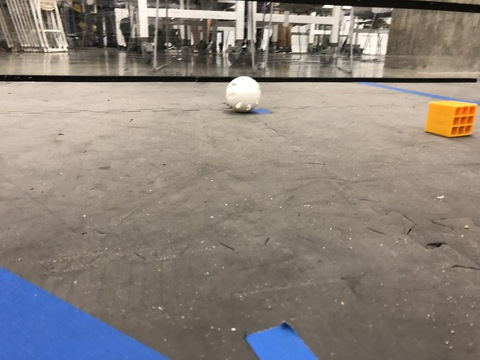ball: (220, 73, 267, 117)
block: (415, 96, 480, 144)
